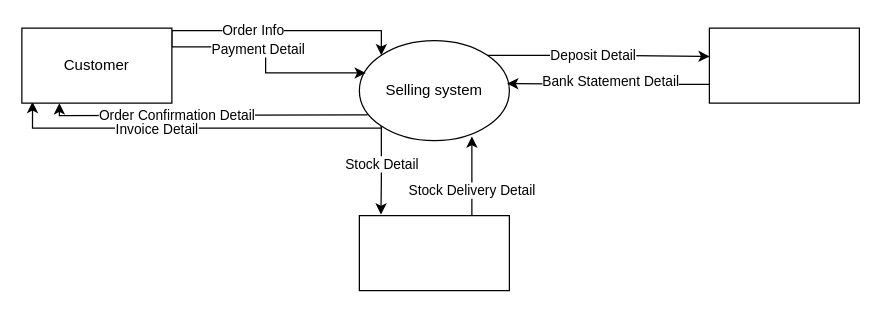
The diagram is 881 pixels wide and 313 high, and some of its shapes have lost their labels. Here are the shapes that lost their labels. From the top down, the box of each, then its label:
(708, 27, 859, 103): Bank
(358, 214, 509, 291): Graduation Wear Supplier
